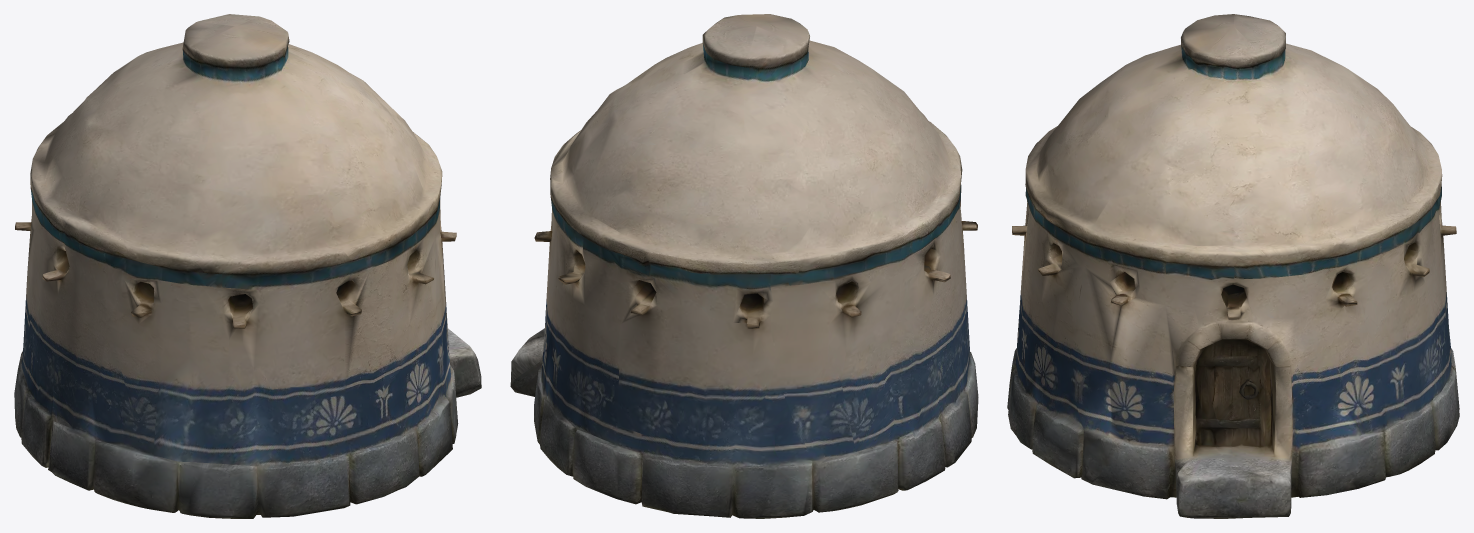
File: coop_1.glb
The picture shows the model from 3 angles, left to right: view 1: azimuth 30°, elevation 25°; view 2: azimuth 150°, elevation 25°; view 3: azimuth 270°, elevation 25°; orthographic projection. The views are drawn at different scales.
Parts seen in each view (by area): view 1: tripo_node_67862b32-9aeb-440b-a974-9f6608737503; view 2: tripo_node_67862b32-9aeb-440b-a974-9f6608737503; view 3: tripo_node_67862b32-9aeb-440b-a974-9f6608737503.
Part boxes in pixels (x1,y1,x2,y2): tripo_node_67862b32-9aeb-440b-a974-9f6608737503: (14,14,481,518); tripo_node_67862b32-9aeb-440b-a974-9f6608737503: (510,14,978,518); tripo_node_67862b32-9aeb-440b-a974-9f6608737503: (1007,14,1459,518).
Size of the model in its own units: 0.9787 by 0.9079 by 0.9558.
Materials: 1 (1 with a texture image).
